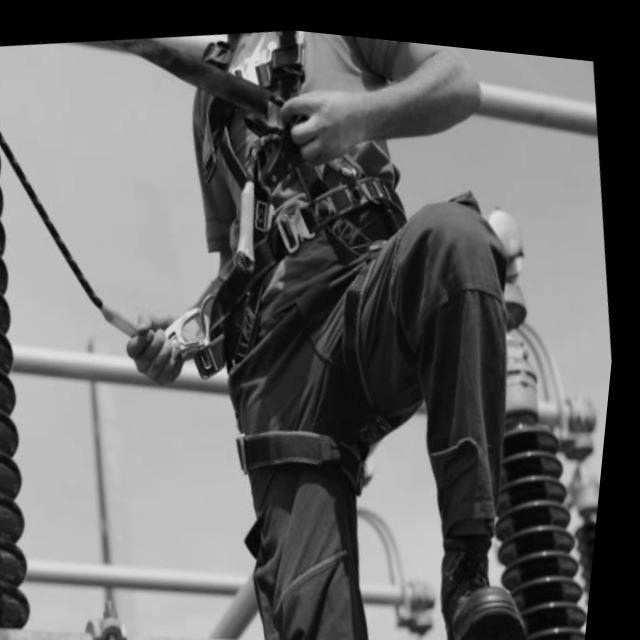safety belt: (171, 52, 441, 464)
